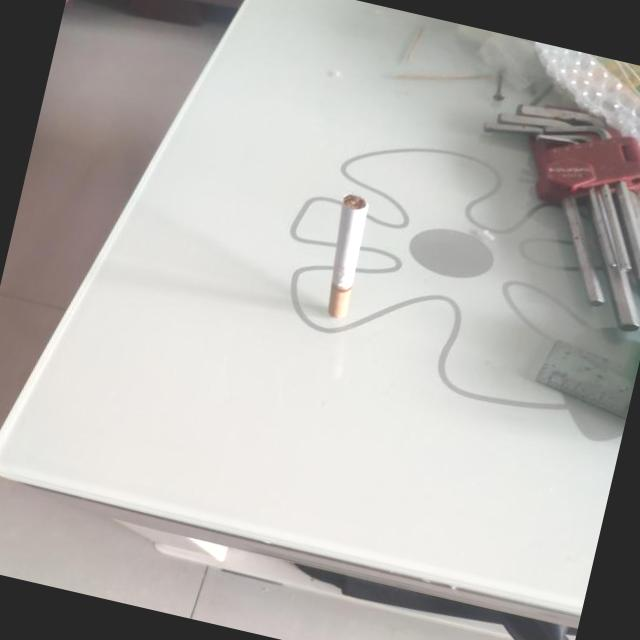smoke: (314, 190, 375, 320)
